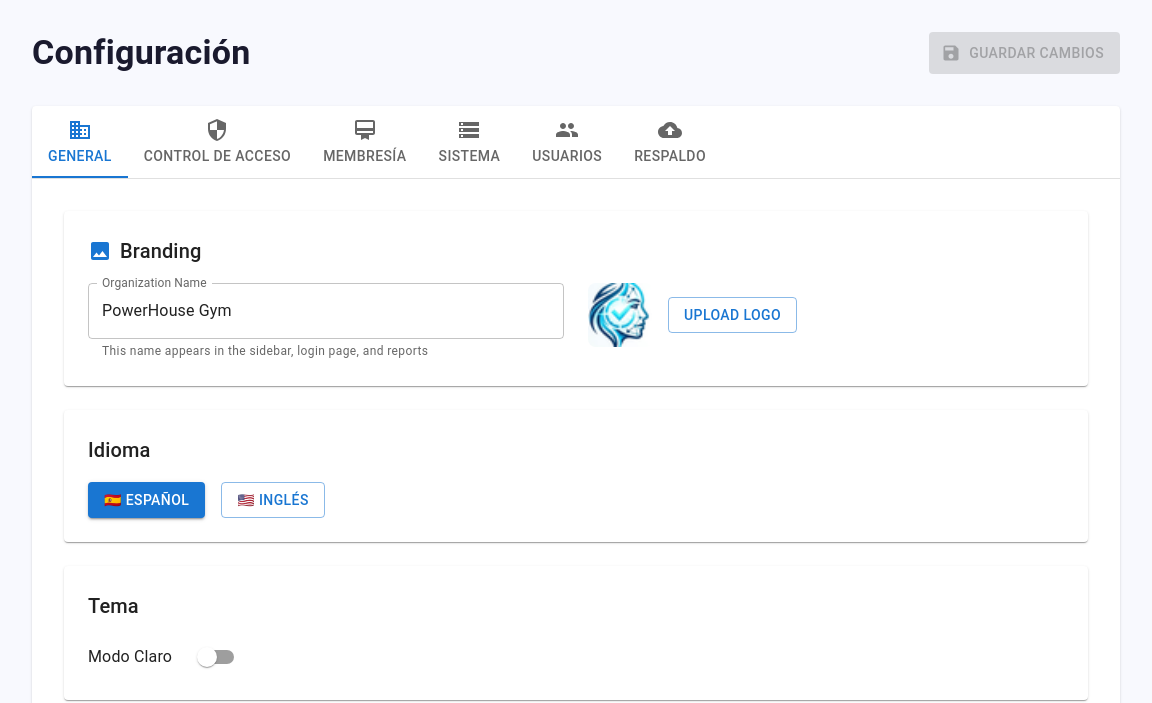
Settings — Backup tab (remote backup config) › admin: keep-current helper appears on the password field only when has_password is true
The width and height of the screenshot is (1152, 703).
Click the tab "Respaldo" at [670, 142], box x1=618 y1=106 x2=722 y2=178
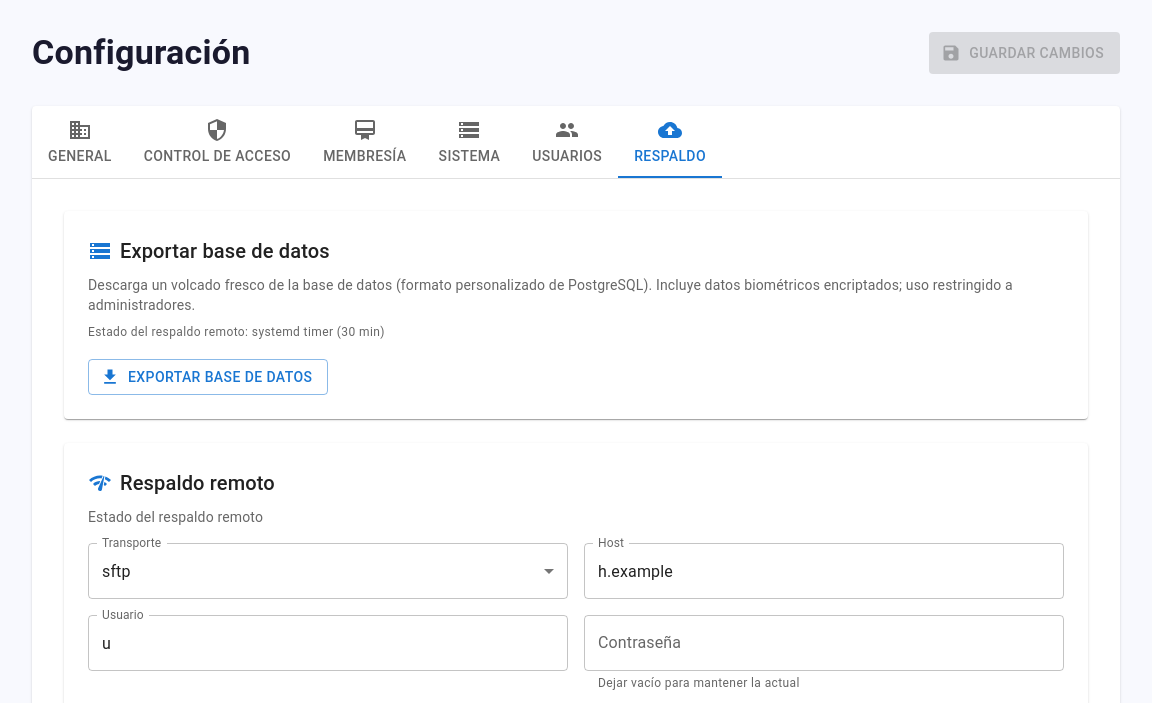
Check: the text "Dejar vacío para mantener la actual" is shown, box x1=598 y1=676 x2=800 y2=690
